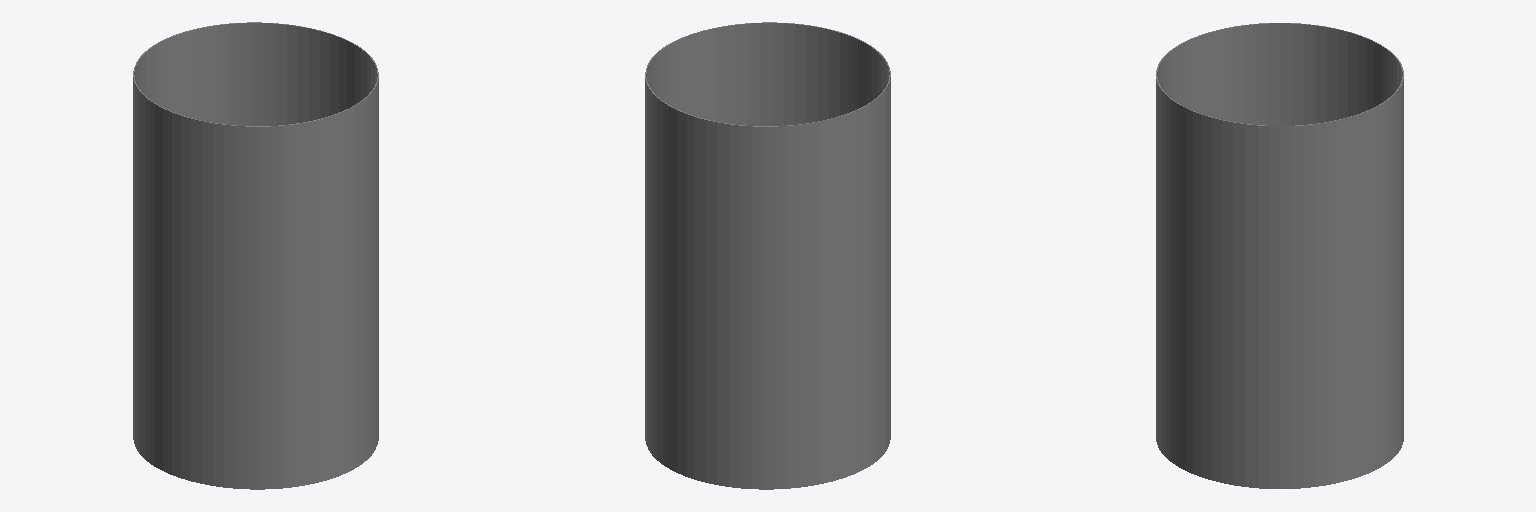
Rendered from Acuario_cilindro.obj.
3 renders of one model, left to right at view 1: azimuth 30°, elevation 25°; view 2: azimuth 150°, elevation 25°; view 3: azimuth 270°, elevation 25°, orthographic.
Parts seen in each view (by area): view 1: Circle02; view 2: Circle02; view 3: Circle02.
Boxes of the visible parts, x1=… form: Circle02: x1=133, y1=22, x2=378, y2=489; Circle02: x1=645, y1=22, x2=890, y2=489; Circle02: x1=1156, y1=23, x2=1403, y2=488.
Size of the model in its own units: 142 by 231 by 143.